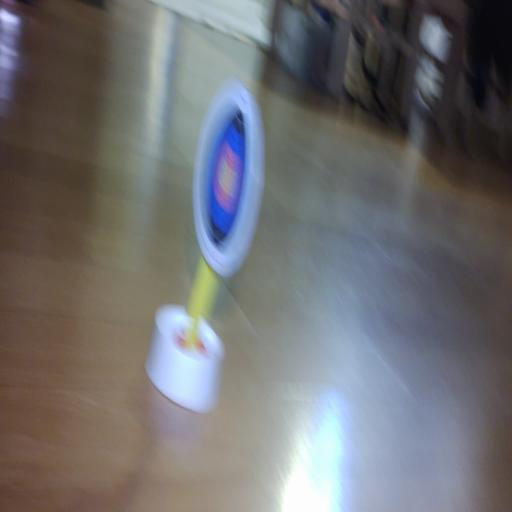target: (194, 80, 264, 277)
